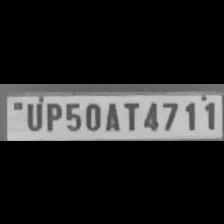0: (82, 99, 102, 130)
1: (198, 98, 218, 130), (179, 99, 199, 130)
4: (140, 98, 160, 130)
5: (61, 99, 80, 131)
7: (160, 98, 178, 130)
A: (102, 99, 120, 131)
P: (42, 99, 62, 131)
T: (120, 98, 140, 132)
U: (21, 99, 43, 130)
